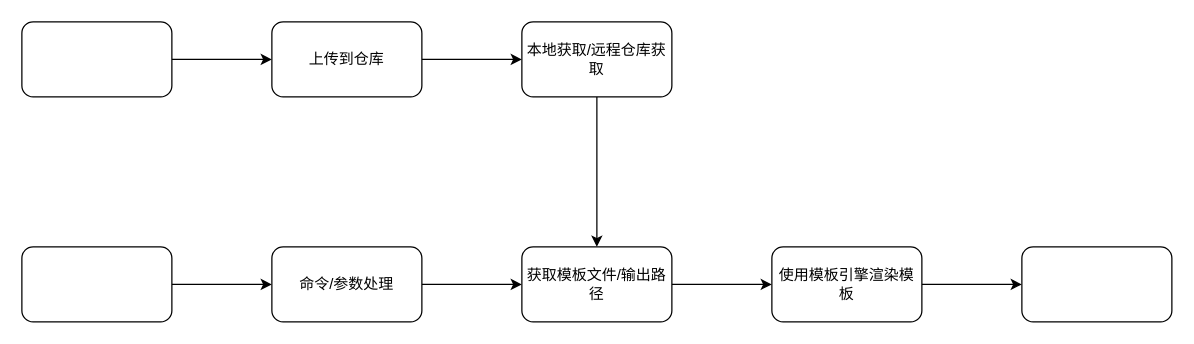
Image size: 1194x344. Some labels were removed from this diagram. The centre of each missing label's shape, as x and y in pixels:
创建文件,输出模板: the point at 1096,284
创建模板: the point at 96,59
输入参数: the point at 96,284
